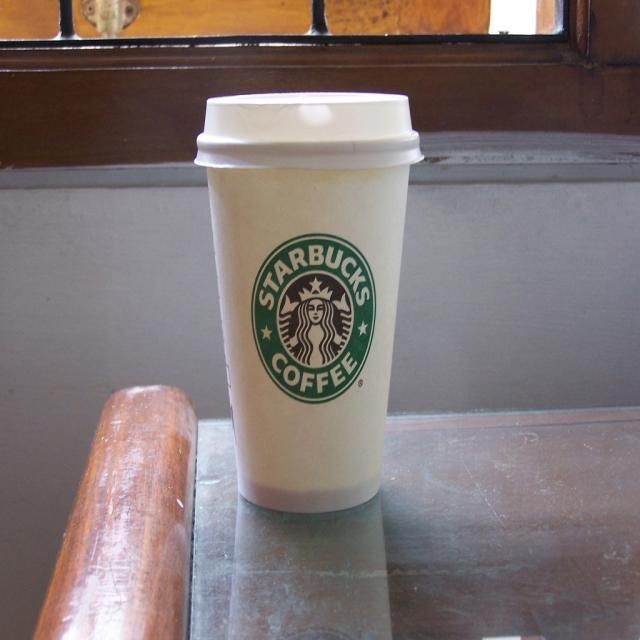starbucks: (251, 233, 378, 405)
